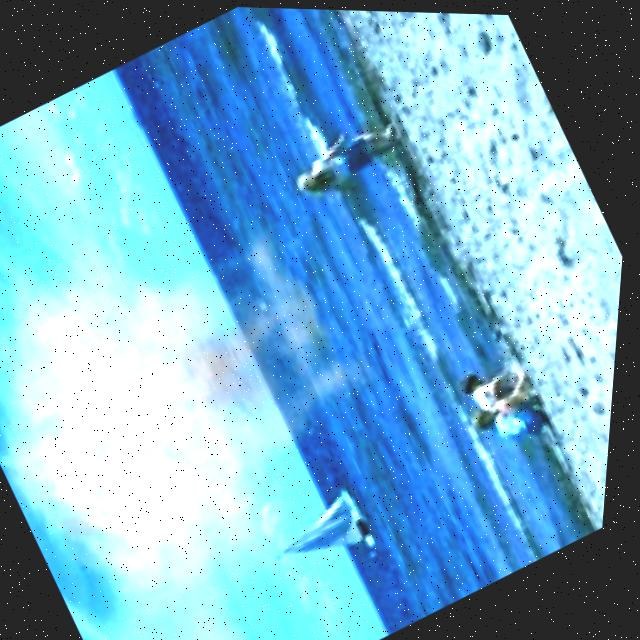Smoke: (0, 130, 449, 640)
